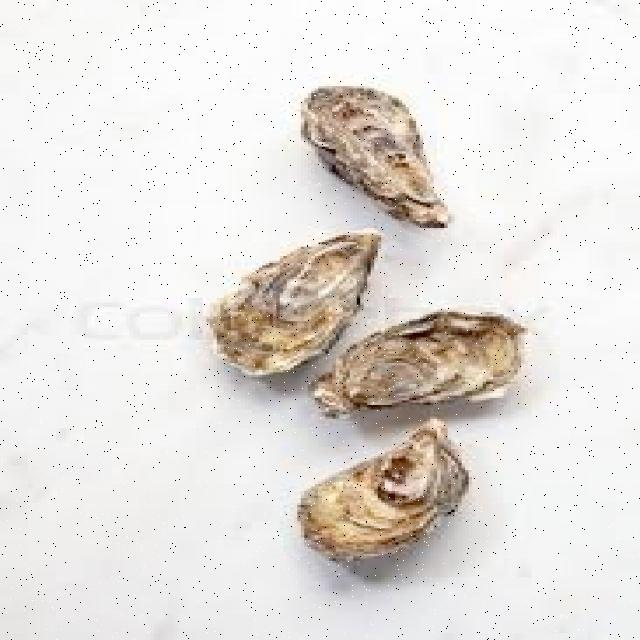Oyster-Closed: (209, 231, 381, 376), (298, 419, 469, 563), (310, 310, 526, 416), (301, 86, 449, 228)
